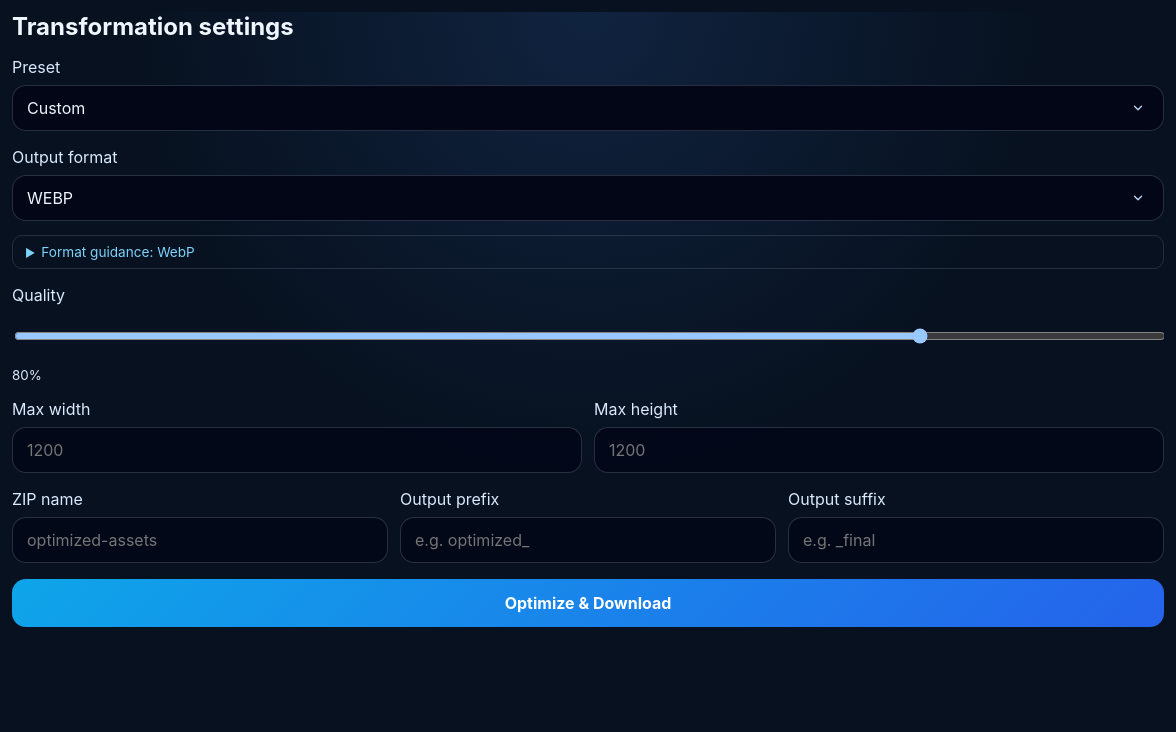
Test: SettingsPanel › FormatGuide summary is clickable and expands
Click the heading "Format guidance: WebP": (118, 252) [41,244,195,260]
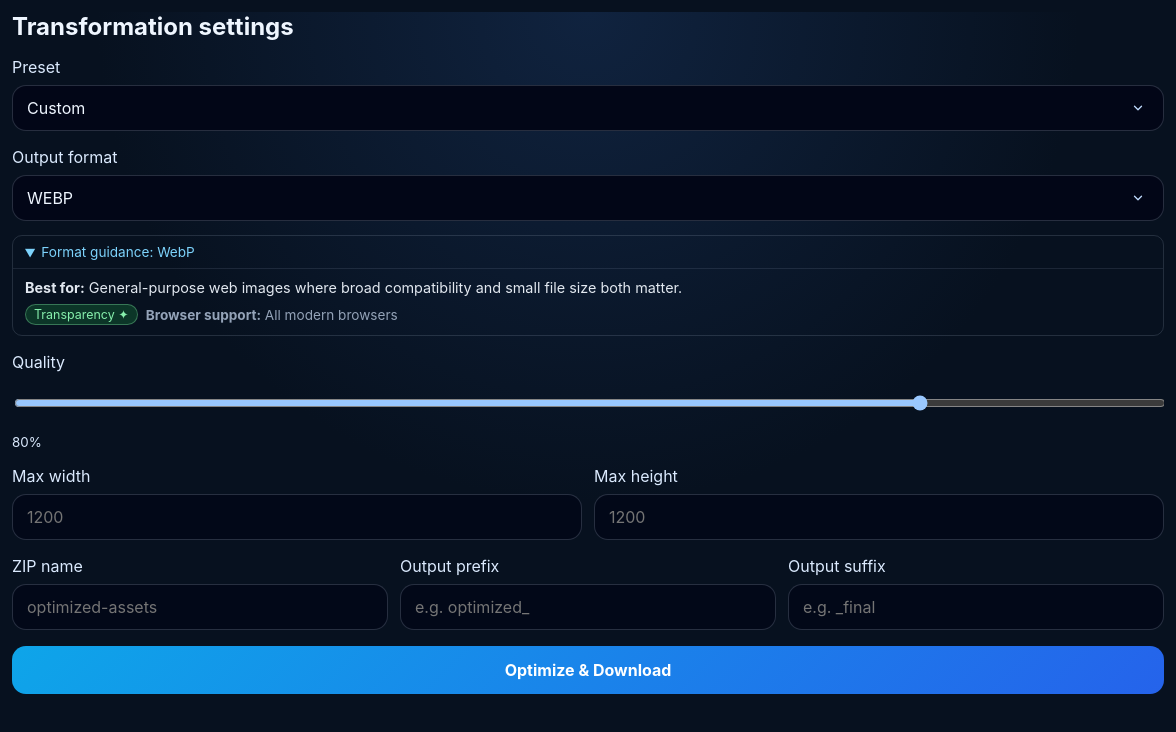
Now the text "Best for:" is shown, box [25,279,85,296]
